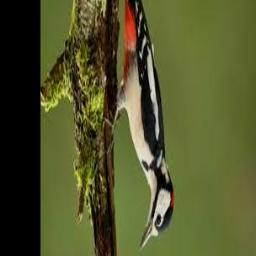Woodpecker: (103, 0, 173, 252)
